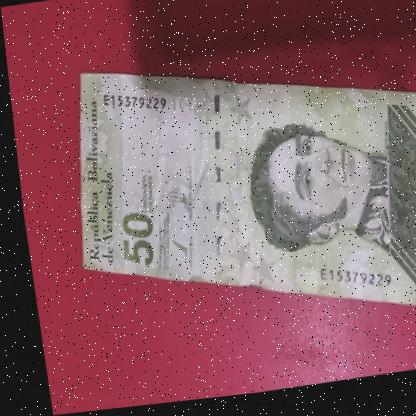vef_front: (50, 32, 416, 357)
